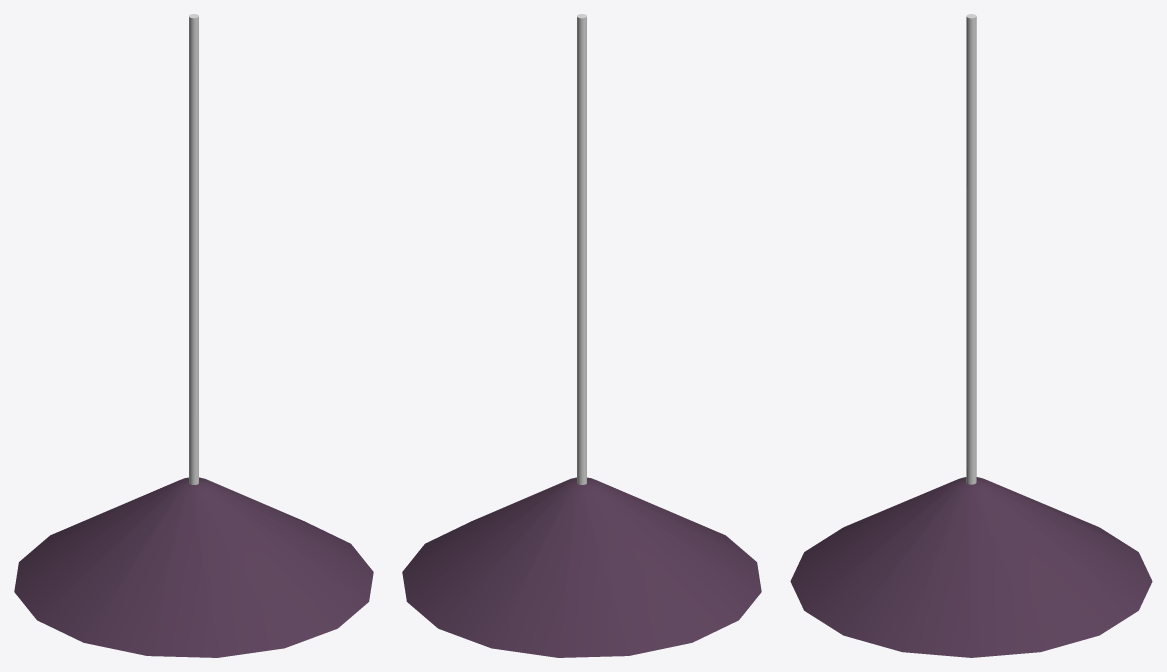
File: Lampara.fbx
3 views of the same model, side by side, from view 1: azimuth 30°, elevation 25°; view 2: azimuth 150°, elevation 25°; view 3: azimuth 270°, elevation 25° (orthographic).
Visible parts, largest first — view 1: Cylinder.018; view 2: Cylinder.018; view 3: Cylinder.018.
Part boxes in pixels (x1,y1,x2,y2): Cylinder.018: (14,14,373,657); Cylinder.018: (402,14,761,657); Cylinder.018: (790,14,1152,657).
Size of the model in its own units: 55.56 by 96.48 by 55.56.
